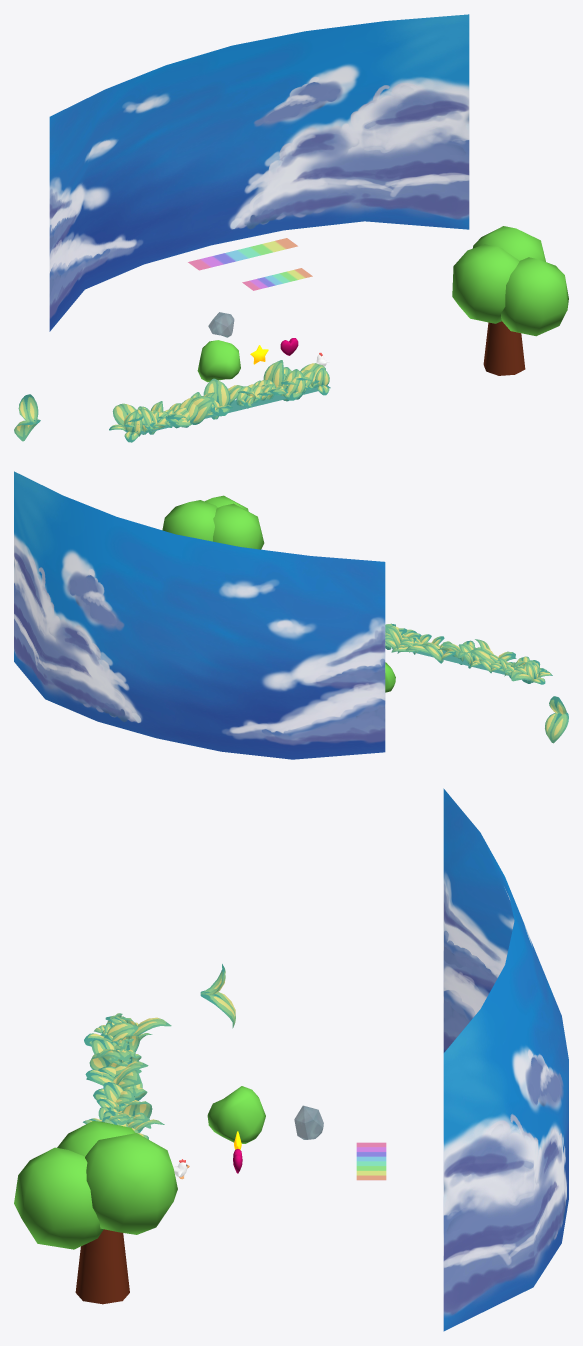
The model's file is assets.gltf.
3 views of the same model, one above another, from view 1: azimuth 30°, elevation 25°; view 2: azimuth 150°, elevation 25°; view 3: azimuth 270°, elevation 25° (orthographic). The views are drawn at different scales.
Parts seen in each view (by area): view 1: Background, TreeFoliage2, TreeTrunk2, Bush, Road5, Leaf.001 (×2), Leaf, Road3; view 2: Background, TreeFoliage2, Leaf; view 3: Background, TreeFoliage2, TreeTrunk2, Bush, Road3, Rock, Leaf.
Boxes of the visible parts, x1,y1,x2,y2 form: Background: (49,14,469,331); TreeFoliage2: (452,226,568,336); TreeTrunk2: (483,321,525,375); Bush: (197,340,240,382); Road5: (188,238,297,270); Leaf.001 (×2): (170,378,229,426); Leaf: (14,394,40,441); Road3: (242,268,312,290); Background: (14,471,385,759); TreeFoliage2: (162,495,264,549); Leaf: (545,696,568,743); Background: (443,788,568,1331); TreeFoliage2: (14,1121,177,1249); TreeTrunk2: (75,1229,129,1304); Bush: (207,1086,265,1143); Road3: (356,1142,386,1180); Rock: (294,1105,323,1139); Leaf: (200,964,235,1028).
Bounding box in the file's own units: 27.13 × 11.45 × 18.69.
Materials: 12 (7 with a texture image).
